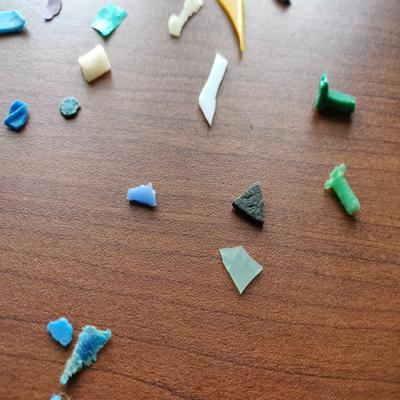plastic: (56, 321, 113, 387), (319, 159, 375, 218), (195, 51, 232, 130), (219, 239, 267, 299), (312, 72, 362, 120), (215, 1, 257, 55), (228, 178, 271, 230), (163, 1, 210, 39), (74, 43, 116, 85), (89, 2, 133, 38), (1, 97, 34, 138), (125, 180, 163, 209), (43, 316, 75, 346), (57, 95, 86, 124), (1, 8, 28, 38), (38, 1, 63, 22)
